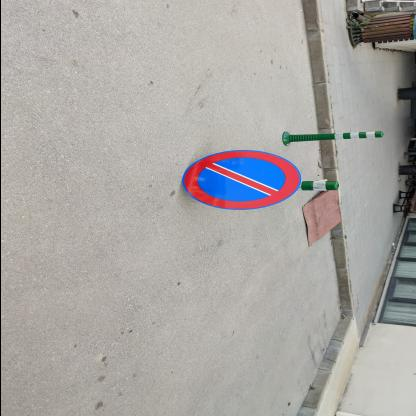No Waiting: (181, 151, 303, 211)
